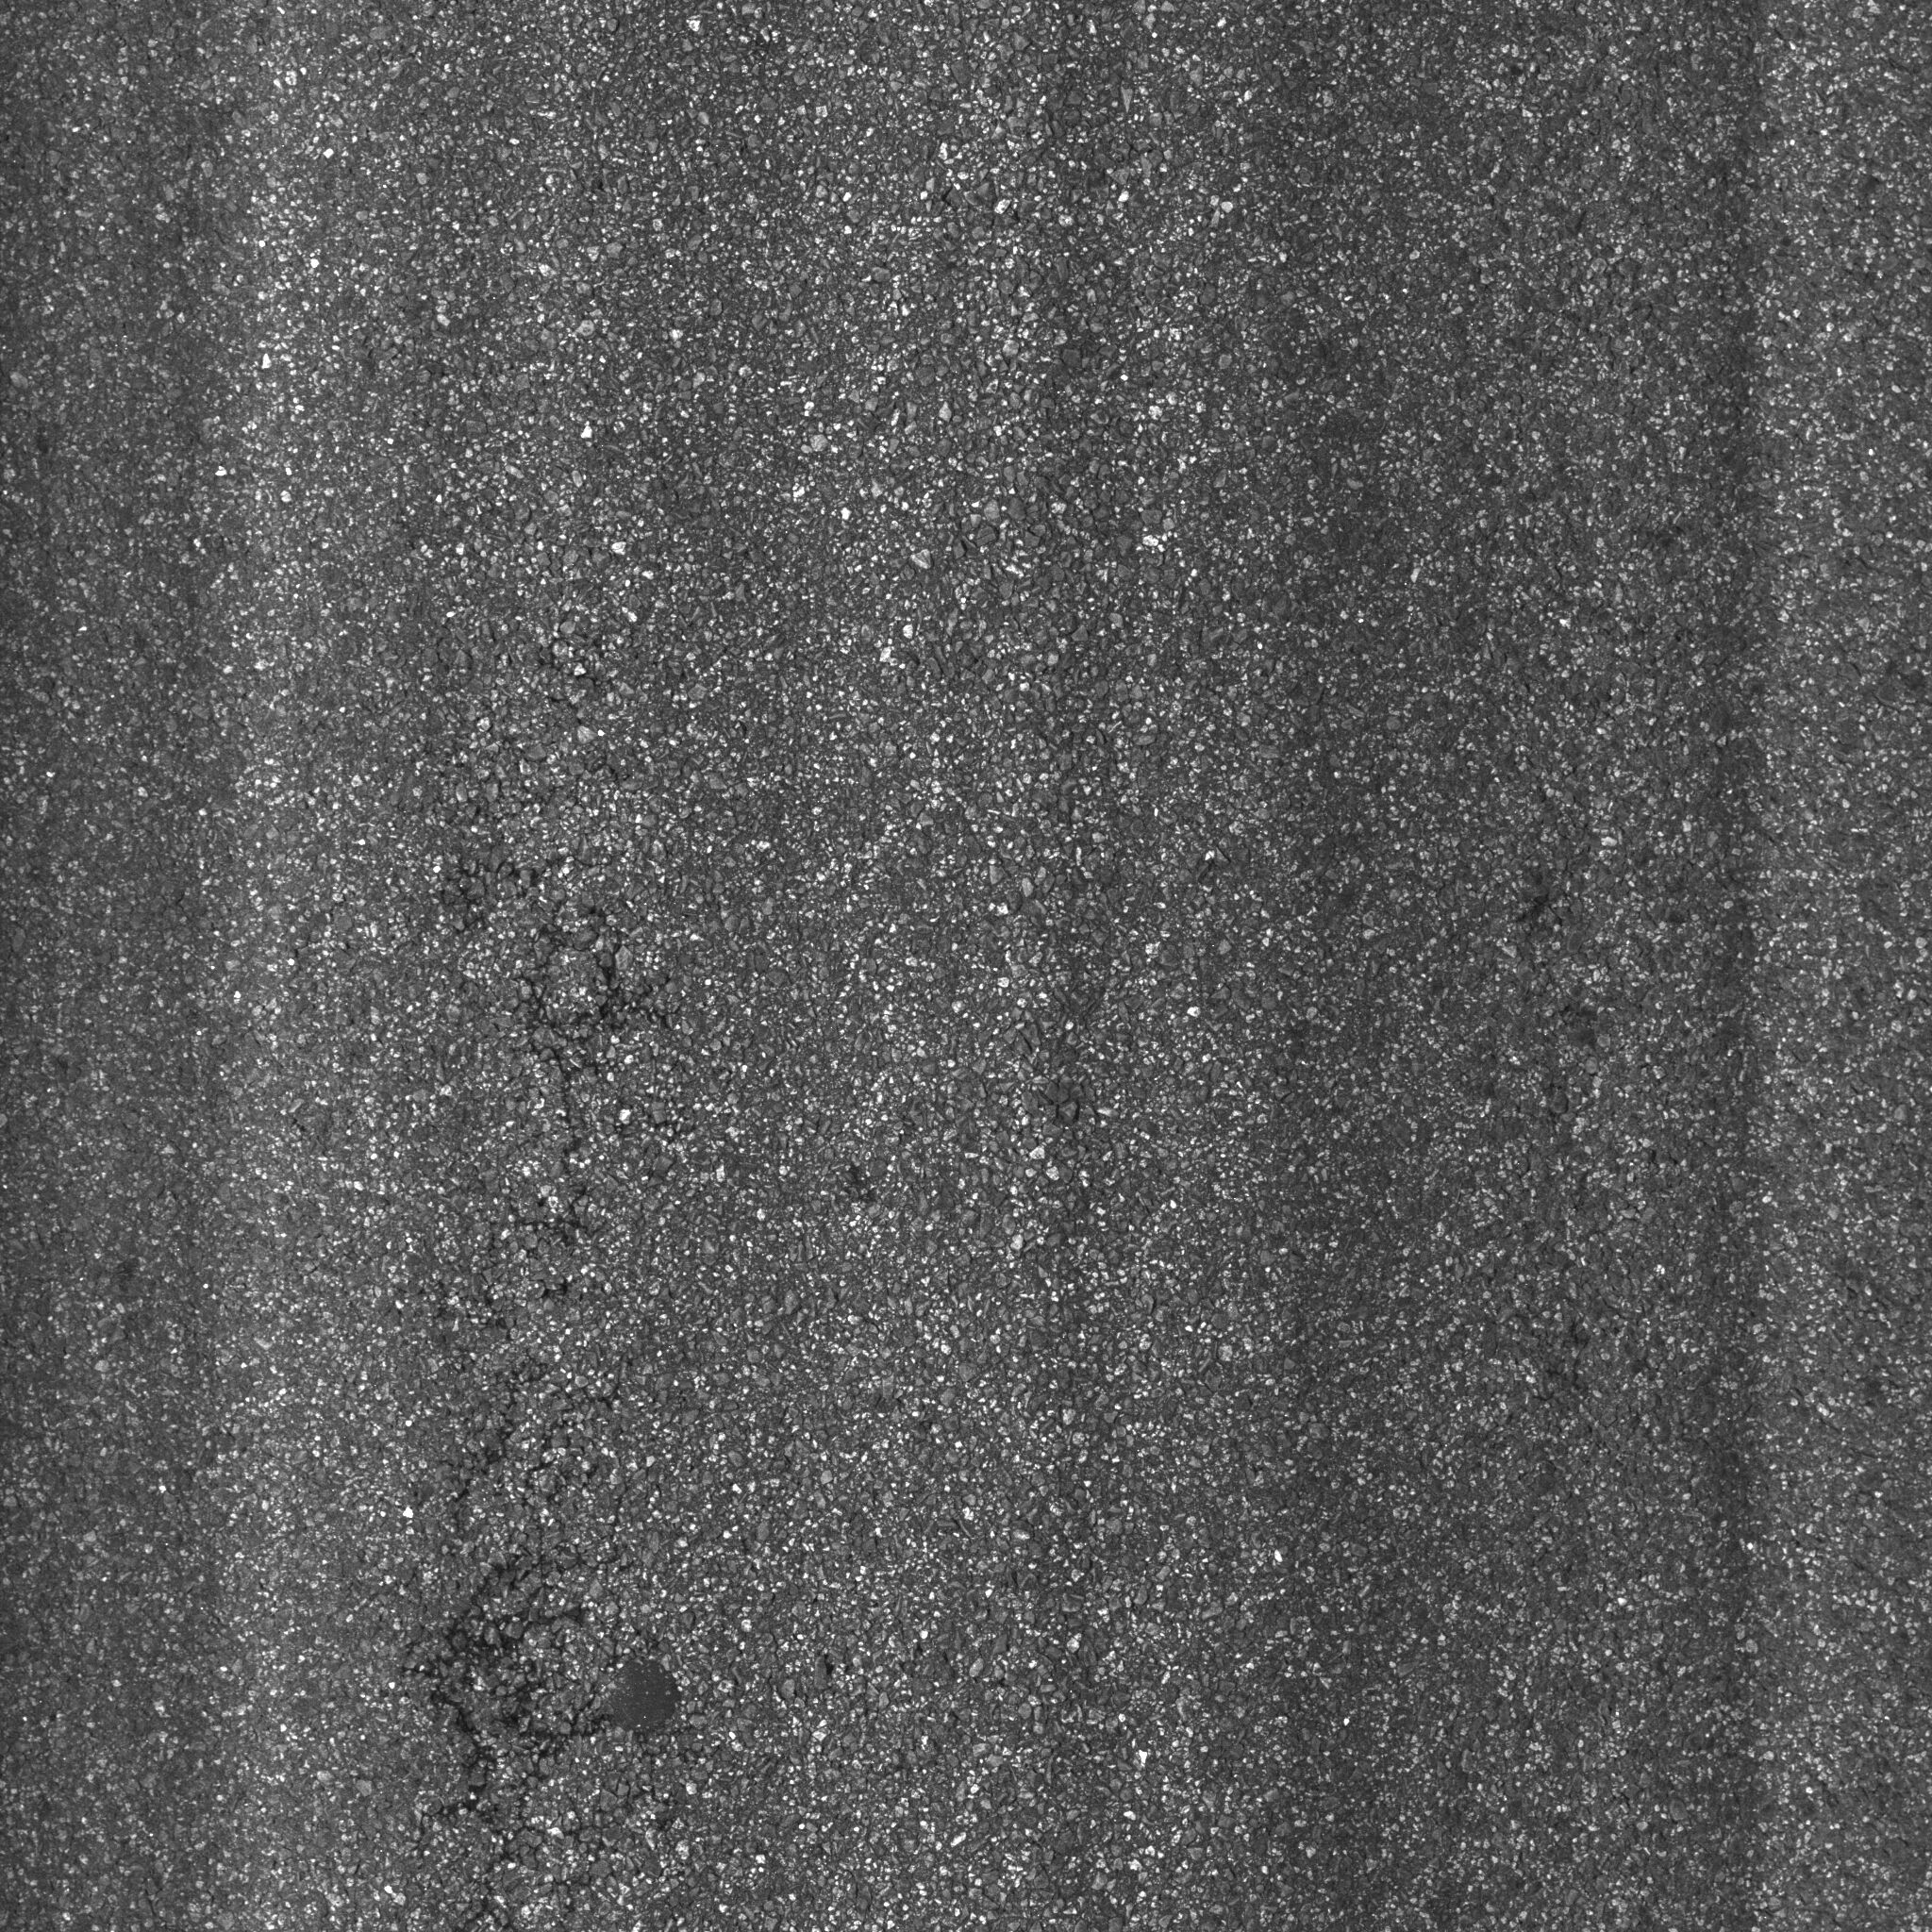longitudinal: (430, 706, 605, 1914)
